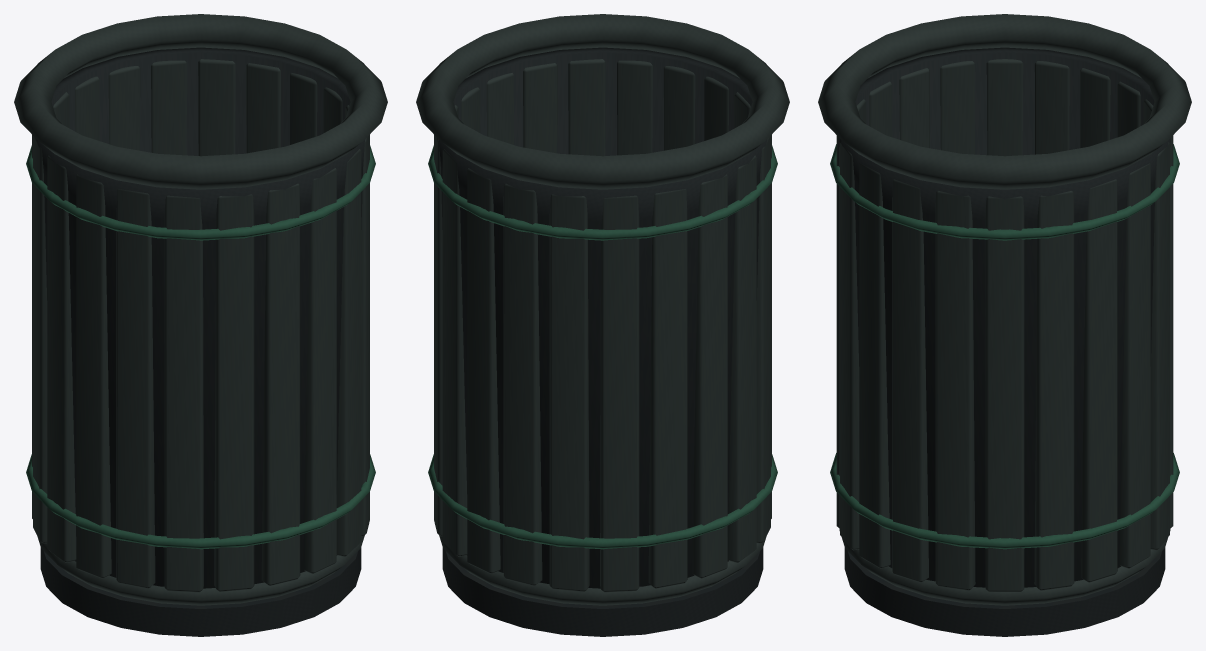
File: waste-bin-crafted.glb
3 renders of one model, left to right at view 1: azimuth 30°, elevation 25°; view 2: azimuth 150°, elevation 25°; view 3: azimuth 270°, elevation 25°, orthographic.
Visible parts, largest first — view 1: waste-bin crafted; view 2: waste-bin crafted; view 3: waste-bin crafted.
Boxes of the visible parts, x1,y1,x2,y2 form: waste-bin crafted: (14, 14, 387, 636); waste-bin crafted: (416, 14, 789, 636); waste-bin crafted: (818, 14, 1191, 636).
Size of the model in its own units: 0.56 by 0.8 by 0.56.
1 material, 1 textured.
